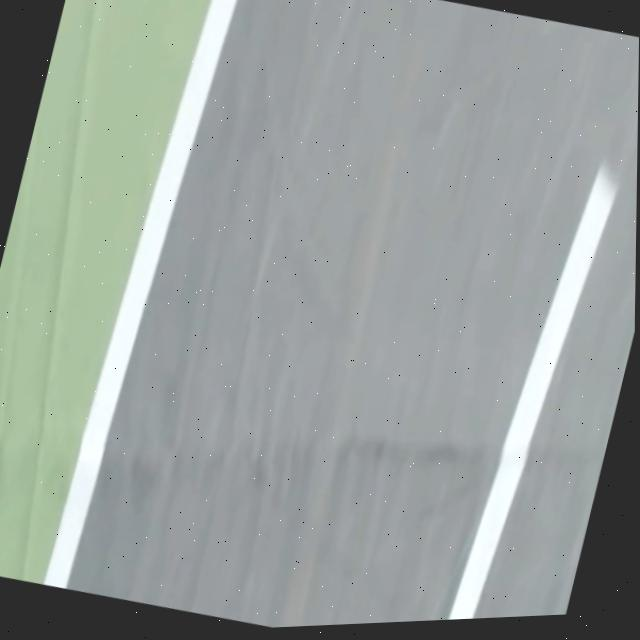center: (448, 164, 617, 620)
right: (44, 0, 238, 588)
